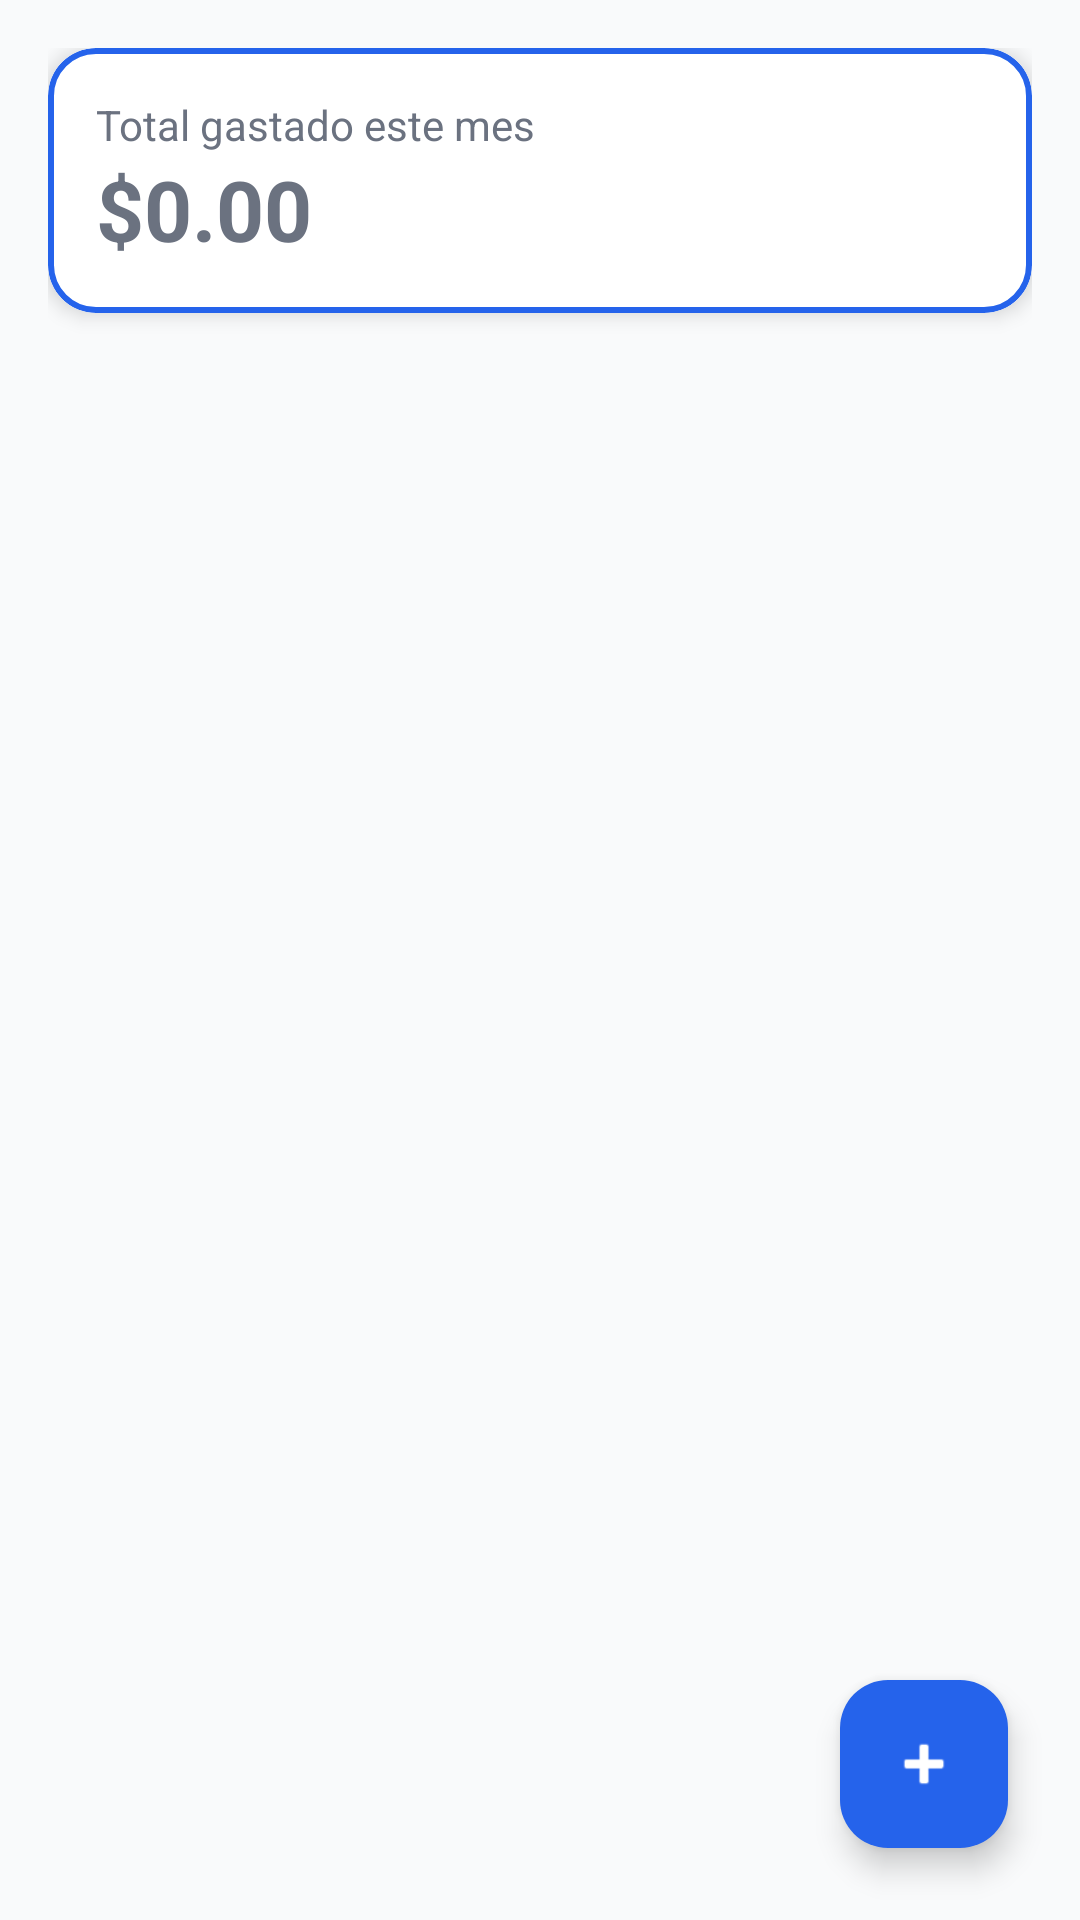

Icons on this 1080*1920 Android screen, each with its box as (x1, y1, x2, y2):
Agregar gasto: (840, 1680, 1008, 1848)
